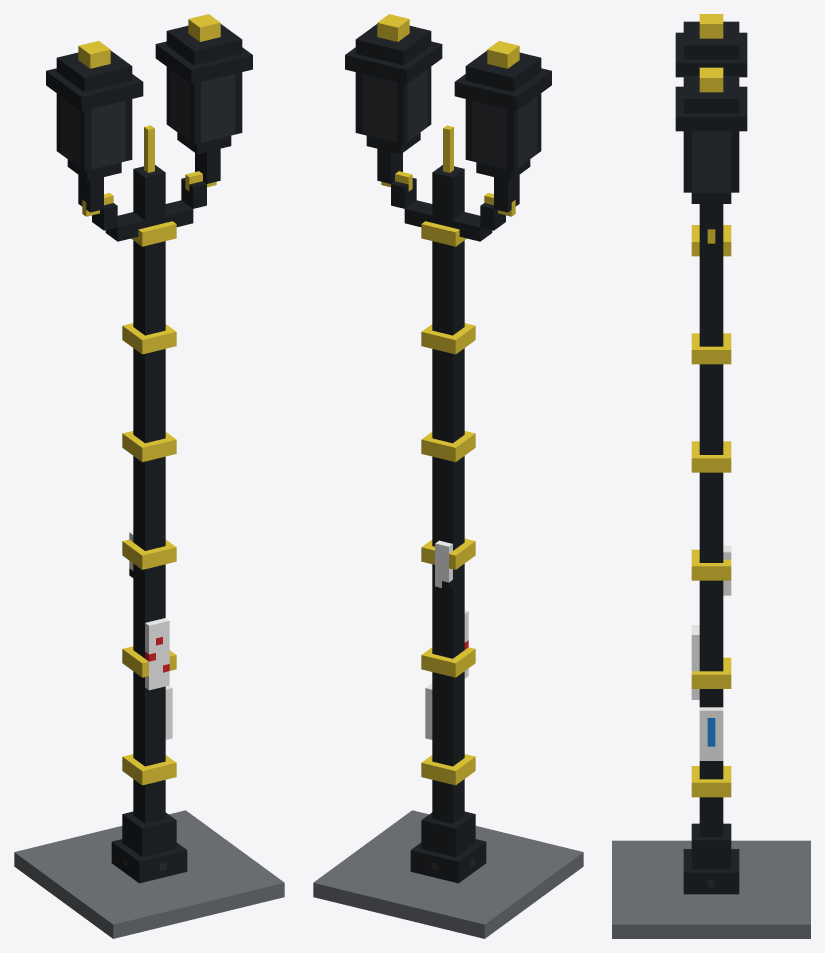
The model's file is farola.obj.
3 renders of one model, left to right at view 1: azimuth 30°, elevation 25°; view 2: azimuth 150°, elevation 25°; view 3: azimuth 270°, elevation 25°, orthographic.
Bounding box in the file's own units: 2.5 × 11.8 × 2.5.
1 material, 1 textured.
